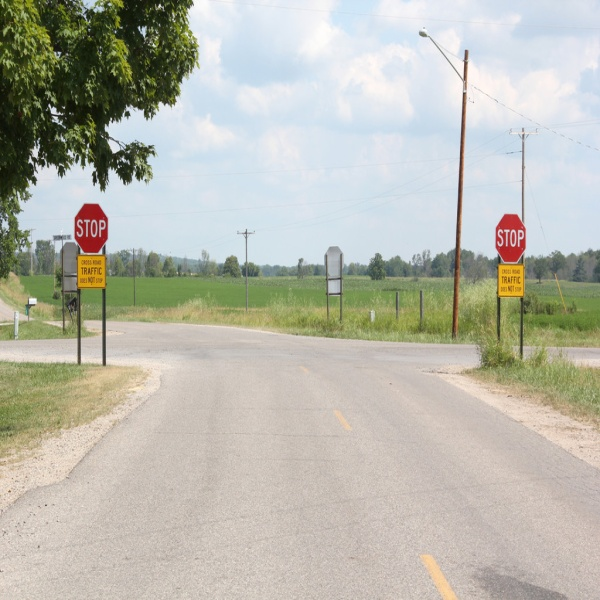stop: (492, 212, 525, 270), (77, 204, 105, 255)
